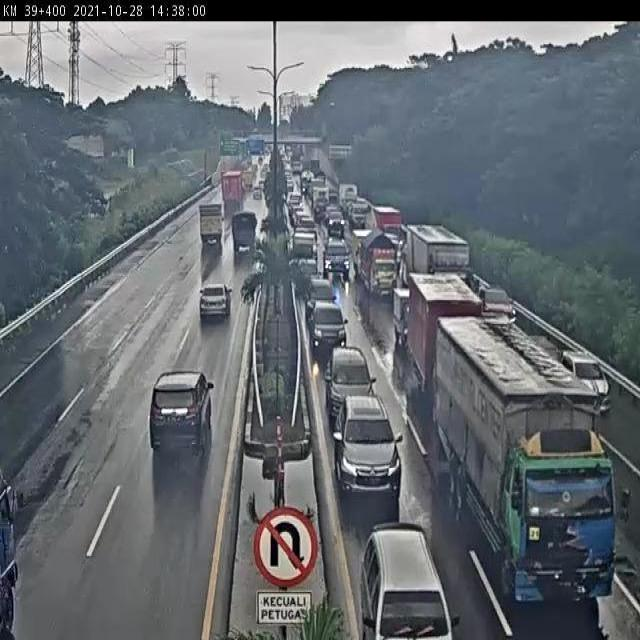big truck: (425, 308, 617, 595), (2, 442, 37, 640), (406, 220, 474, 291), (218, 165, 247, 208)
car: (348, 522, 456, 640), (140, 357, 220, 460), (335, 393, 406, 503), (542, 329, 611, 394), (321, 344, 381, 413), (472, 266, 520, 326), (306, 298, 352, 358), (195, 277, 236, 331), (388, 280, 419, 349), (321, 233, 354, 280)
small truck: (405, 269, 486, 395), (356, 231, 400, 297), (228, 203, 263, 257), (195, 199, 230, 248)
